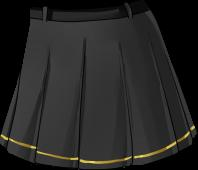Hemline: (0, 132, 197, 169)
Waistline: (30, 8, 149, 23), (32, 0, 139, 8)
